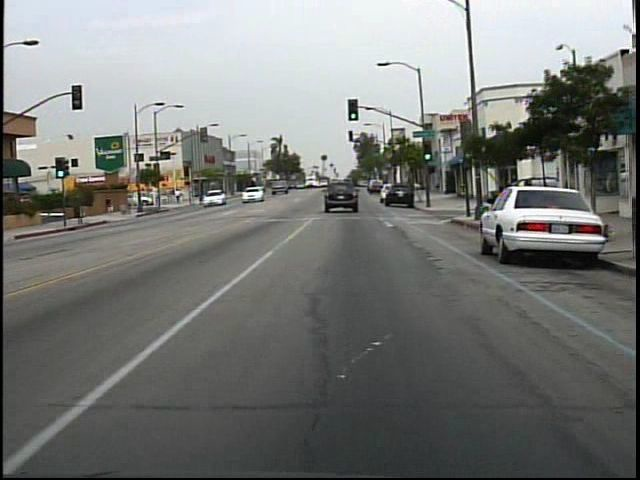person: (496, 174, 520, 228), (102, 191, 122, 220), (176, 187, 185, 206)
